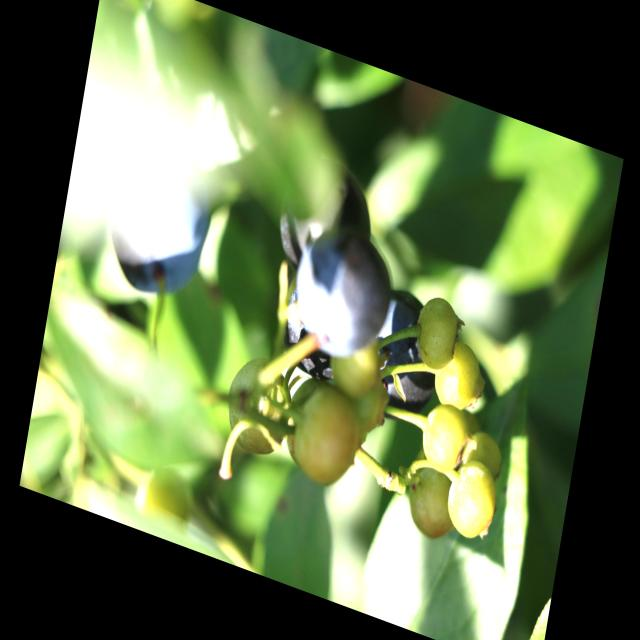blueberry: (283, 219, 397, 373), (269, 147, 382, 287), (362, 278, 449, 432)
blueberry-unripe: (276, 368, 364, 492), (220, 350, 296, 467), (439, 451, 502, 550), (402, 446, 463, 547), (418, 394, 477, 480), (432, 333, 489, 422), (407, 290, 461, 378), (460, 428, 504, 481)
